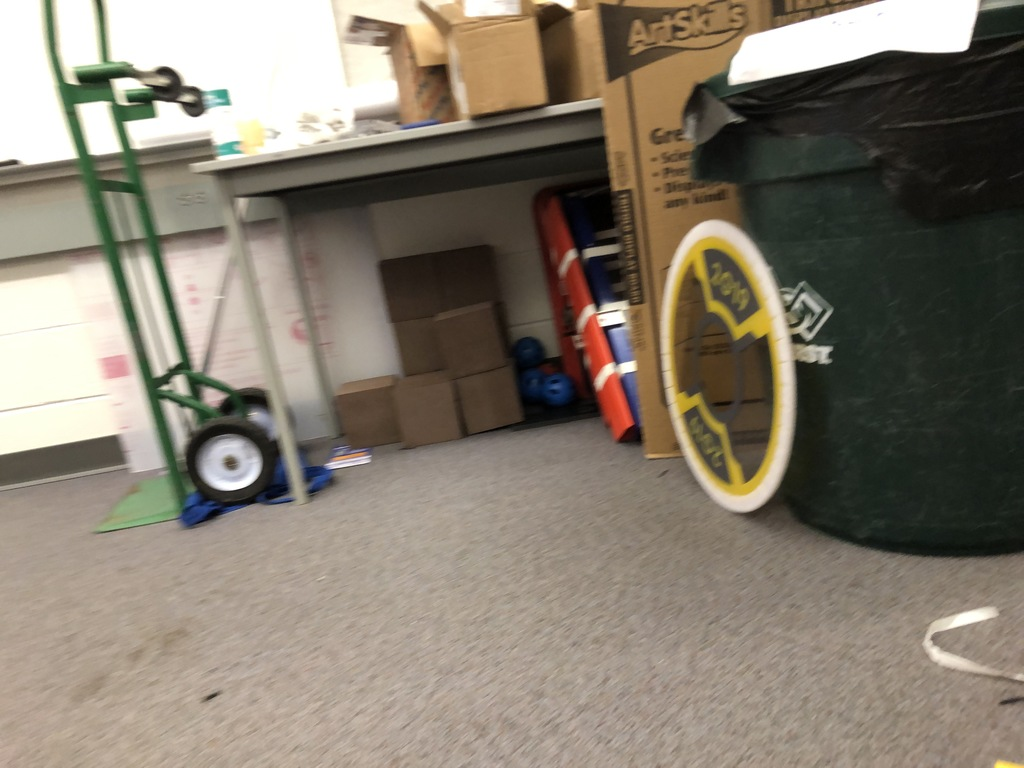hatch_panel: (654, 197, 811, 552)
